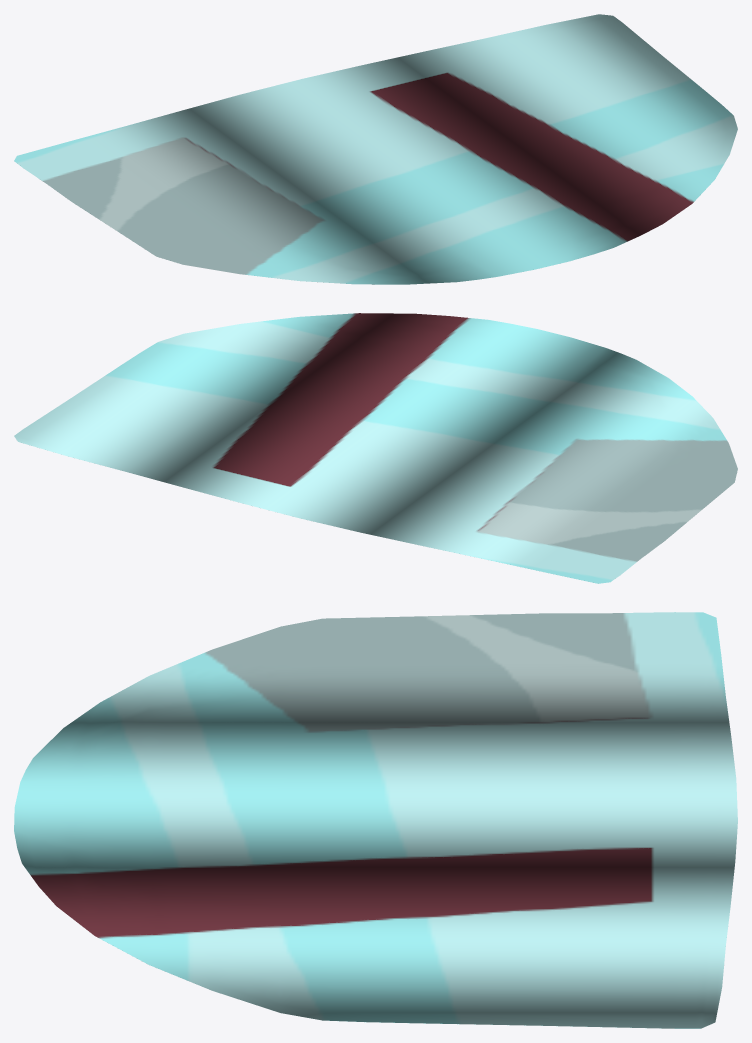
Rendered from Level 101.fbx.
The picture shows the model from 3 angles, top to bottom: view 1: azimuth 30°, elevation 25°; view 2: azimuth 150°, elevation 25°; view 3: azimuth 270°, elevation 25°; orthographic projection. The views are drawn at different scales.
Visible parts, largest first — view 1: mask; view 2: mask; view 3: mask.
Boxes of the visible parts, x1,y1,x2,y2 form: mask: (14,14,737,284); mask: (14,313,737,583); mask: (14,612,737,1028).
Size of what is drawn, in the model's own units: 656 by 0.0368 by 482.
